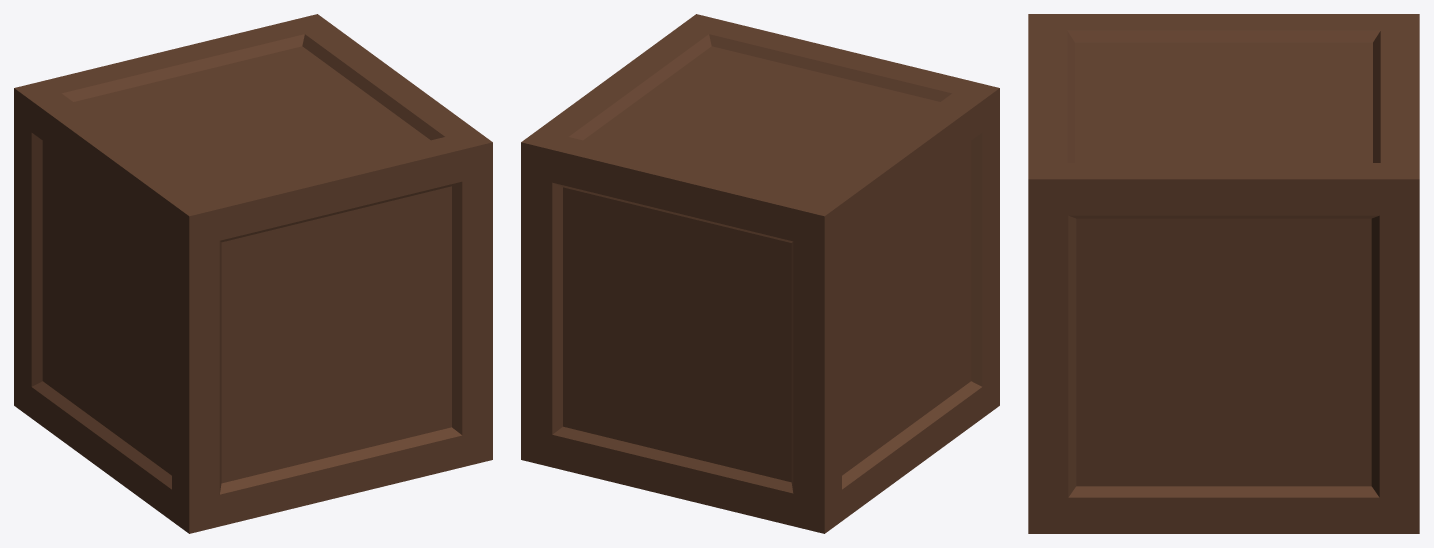
The model's file is crate.glb.
3 renders of one model, left to right at view 1: azimuth 30°, elevation 25°; view 2: azimuth 150°, elevation 25°; view 3: azimuth 270°, elevation 25°, orthographic. The views are drawn at different scales.
Visible parts, largest first — view 1: Cube; view 2: Cube; view 3: Cube.
Boxes of the visible parts, x1=… form: Cube: x1=14, y1=14, x2=492, y2=533; Cube: x1=521, y1=14, x2=999, y2=533; Cube: x1=1028, y1=14, x2=1419, y2=533.
Size of the model in its own units: 2 by 2 by 2.
1 material, 1 textured.
